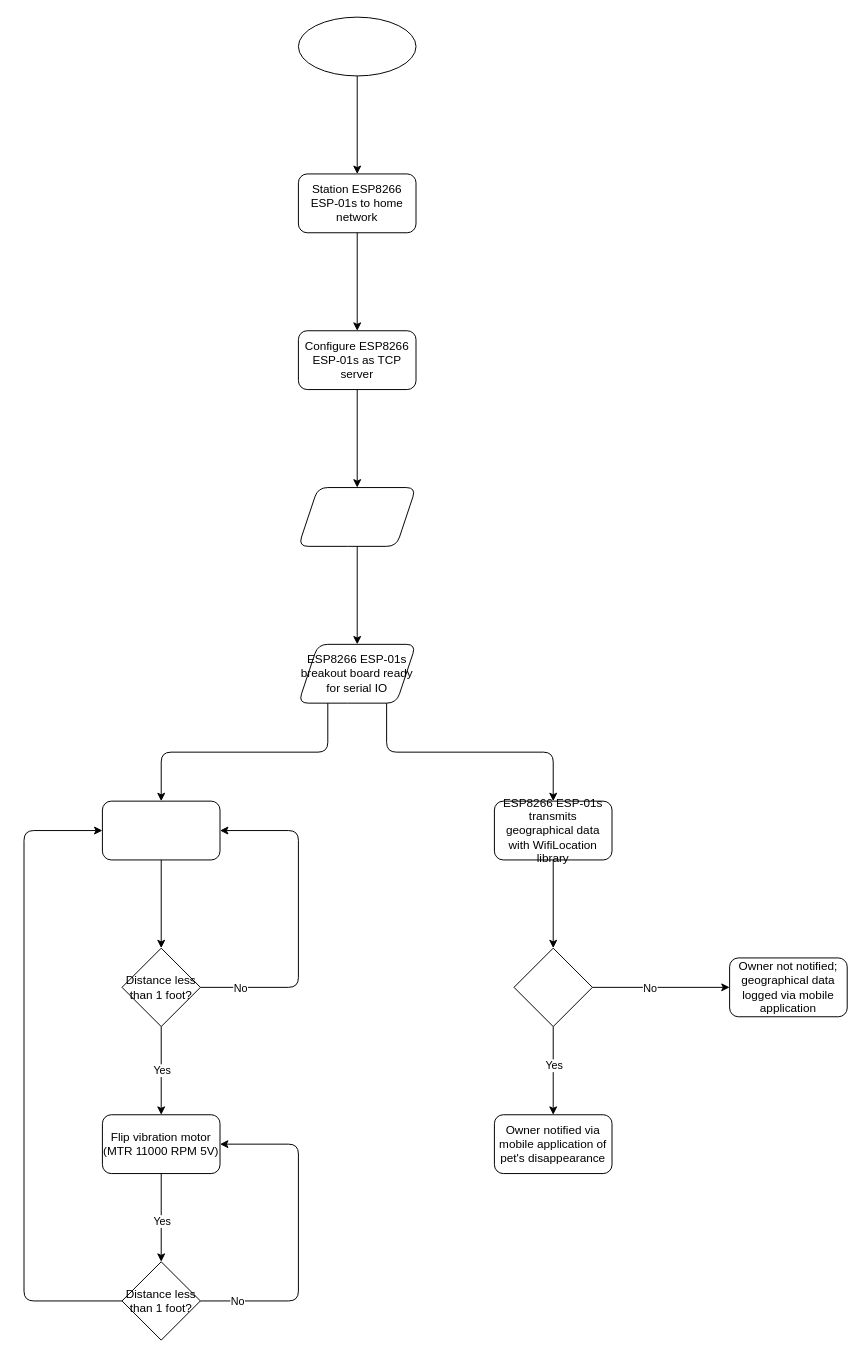
The diagram is 864 pixels wide and 1357 high, and some of its shapes have lost their labels. The box of each missing label's shape, as (x1, y1, x2, y2) in pixels:
ESP8266 ESP-01s listening on specified port for HTTP requests: (297, 487, 416, 546)
Geographical location beyond predefined radial distance?: (513, 947, 592, 1027)
Start process: (297, 16, 416, 76)
Ultrasonic Sensor measures forward distance from nearest obstacle: (101, 800, 220, 860)
